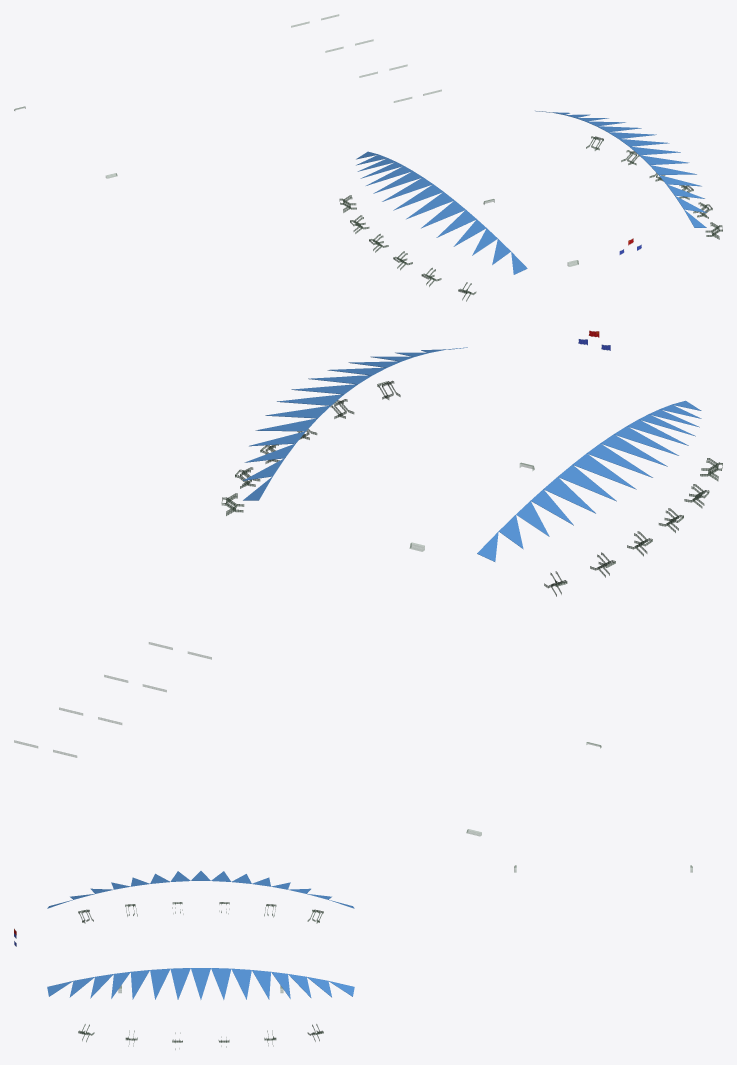
The model's file is 1011_TYGYDCD.glb.
3 renders of one model, top to bottom at view 1: azimuth 30°, elevation 25°; view 2: azimuth 150°, elevation 25°; view 3: azimuth 270°, elevation 25°, orthographic. The views are drawn at different scales.
Parts seen in each view (by area): view 1: 1011; view 2: 1011; view 3: 1011.
Boxes of the visible parts, x1,y1,x2,y2 form: 1011: [14, 14, 722, 301]; 1011: [14, 330, 722, 836]; 1011: [14, 865, 692, 1049].
Size of the model in its own units: 326 by 52.7 by 508.
6 materials, 6 textured.
